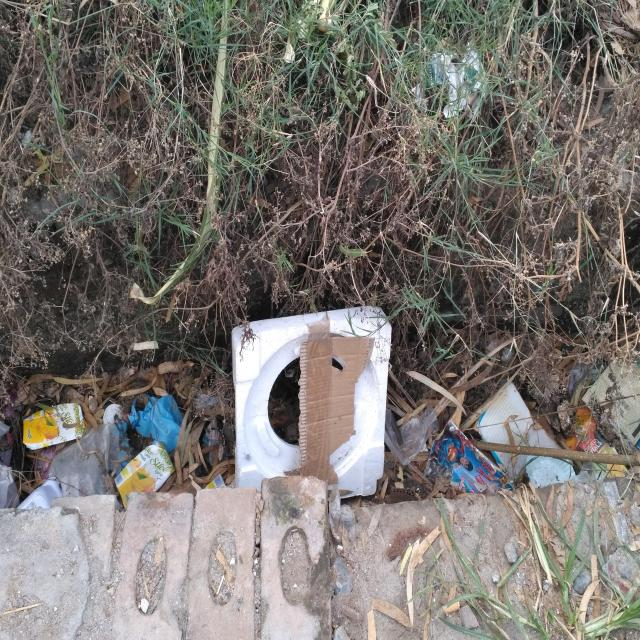litter: (228, 305, 391, 499), (114, 439, 173, 508), (21, 401, 83, 449)
